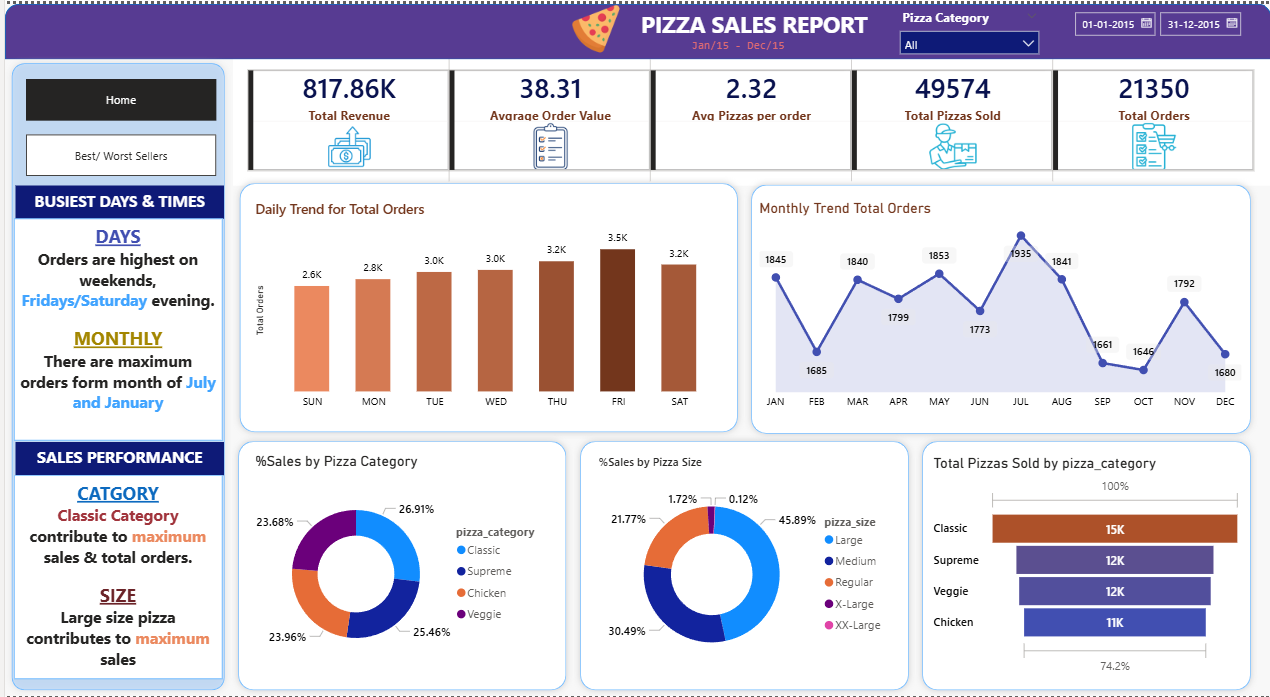

The dashboard page shown, as its layout file describes it:
{"tool":"powerbi","page":{"name":"Home","canvas":[1500,820],"ordinal":0},"visuals":[{"type":"cardVisual","fields":{"Data":["pizza_sales.Total Revenue","pizza_sales.Avgrage Order Value","pizza_sales.Avg Pizzas per order","pizza_sales.Total Pizzas Sold","pizza_sales.Total Orders"]},"box":[269.7,60.3,1229.7,154.4],"z":0},{"type":"actionButton","box":[0,0,100,40],"z":1000},{"type":"shape","box":[0,0,1499.4,65.7],"z":2000},{"type":"textbox","box":[724,0,324.7,58.6],"z":3000},{"type":"textbox","box":[807.4,33.7,136.6,28.4],"z":4000},{"type":"image","box":[647.7,0,102.9,58.6],"z":5000},{"type":"shape","box":[269.7,204.1,605.1,310.5],"z":6000},{"type":"columnChart","title":"Daily Trend for Total Orders","fields":{"Category":["pizza_sales.Order Day"],"Y":["pizza_sales.Total Orders"]},"box":[291,230.7,562.5,257.3],"z":7000},{"type":"shape","box":[874.8,205.8,606.9,310.5],"z":8000},{"type":"areaChart","title":"Monthly Trend Total Orders ","fields":{"Category":["pizza_sales.Order Month"],"Y":["pizza_sales.Total Orders"]},"box":[887.2,230.7,580.2,257.3],"z":9000},{"type":"shape","box":[267.9,509.3,404,310.5],"z":10000},{"type":"shape","box":[672.5,509.3,404.6,310.5],"z":11000},{"type":"shape","box":[0,62.1,267.9,757.7],"z":11500},{"type":"shape","box":[1077.1,509.3,404.6,310.5],"z":12000},{"type":"donutChart","title":"%Sales by Pizza Category","fields":{"Y":["pizza_sales.Total Revenue"],"Category":["pizza_sales.pizza_category"]},"box":[291,530.6,356.7,266.2],"z":13000},{"type":"donutChart","title":"%Sales by Pizza Size","fields":{"Y":["pizza_sales.Total Revenue"],"Category":["pizza_sales.pizza_size"]},"box":[697.4,532.3,356.7,266.2],"z":14000},{"type":"funnel","fields":{"Category":["pizza_sales.pizza_category"],"Y":["pizza_sales.Total Pizzas Sold"]},"box":[1093.1,532.3,374.4,266.2],"z":16000},{"type":"textbox","box":[12.4,214.7,246.6,39],"z":17000},{"type":"textbox","box":[10.6,253.7,246.6,262.6],"z":18000},{"type":"textbox","box":[12.4,518.1,246.6,39],"z":18001},{"type":"textbox","box":[10.6,557.2,246.6,241.3],"z":18002},{"type":"slicer","fields":{"Values":["pizza_sales.pizza_category"]},"box":[1048.7,0,184.5,63.9],"z":18003},{"type":"slicer","fields":{"Values":["pizza_sales.order_date"]},"box":[1252.8,0,228.9,65.7],"z":18004},{"type":"pageNavigator","box":[24.8,88.7,225.4,49.7],"z":18005},{"type":"pageNavigator","box":[24.8,154.4,225.4,49.7],"z":18006}]}

Visuals, with their boxes in screenshot pixels (x1, y1, x2, y2), scaled from the page's 1500x820 canvas onto the 1270x697 screenshot:
cardVisual - pizza_sales.Total Revenue x pizza_sales.Avgrage Order Value: 228,51,1269,182
actionButton: 0,0,85,34
shape: 0,0,1269,56
textbox: 613,0,888,50
textbox: 684,29,799,53
image: 548,0,636,50
shape: 228,173,741,437
"Daily Trend for Total Orders" columnChart: 246,196,723,415
shape: 741,175,1255,439
"Monthly Trend Total Orders " areaChart: 751,196,1242,415
shape: 227,433,569,696
shape: 569,433,912,696
shape: 0,53,227,696
shape: 912,433,1255,696
"%Sales by Pizza Category" donutChart: 246,451,548,677
"%Sales by Pizza Size" donutChart: 590,452,892,679
funnel - pizza_sales.pizza_category x pizza_sales.Total Pizzas Sold: 925,452,1242,679
textbox: 10,182,219,216
textbox: 9,216,218,439
textbox: 10,440,219,474
textbox: 9,474,218,679
slicer - pizza_sales.pizza_category: 888,0,1044,54
slicer - pizza_sales.order_date: 1061,0,1255,56
pageNavigator: 21,75,212,118
pageNavigator: 21,131,212,173
